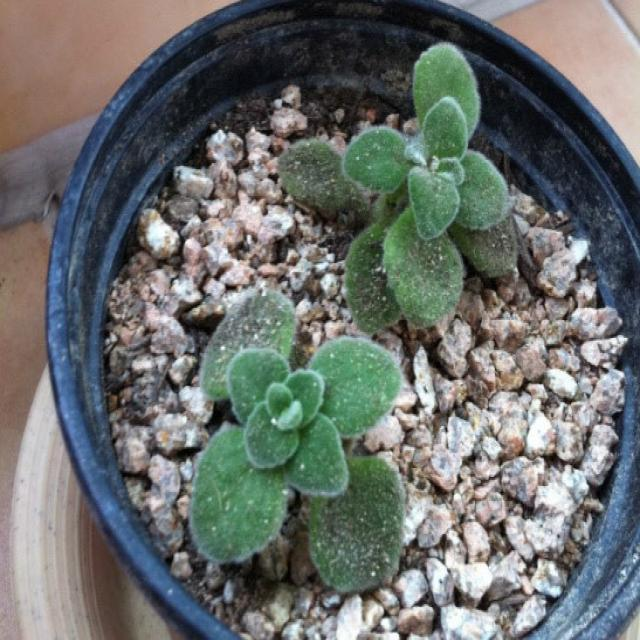Vicks: (190, 291, 404, 591), (342, 45, 518, 332)
